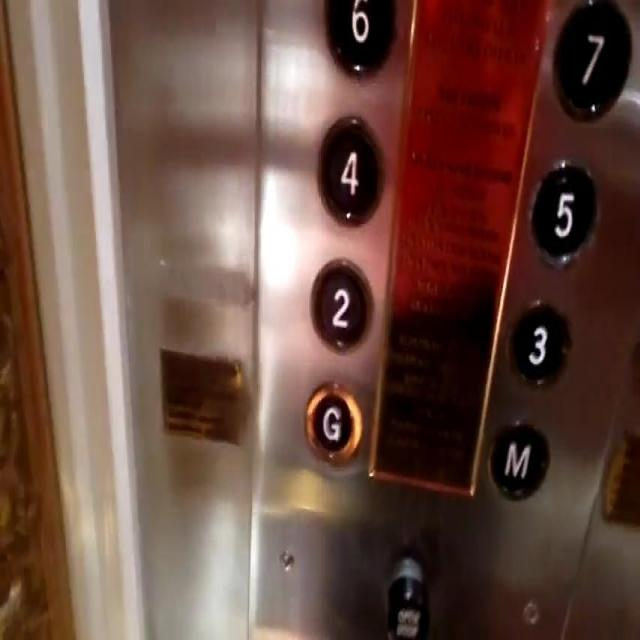2: (308, 252, 376, 357)
3: (510, 300, 570, 385)
4: (313, 107, 388, 232)
5: (528, 157, 600, 267)
7: (550, 0, 633, 123)
G: (303, 375, 363, 469)
M: (488, 420, 548, 500)
text_blur: (384, 558, 428, 638)
